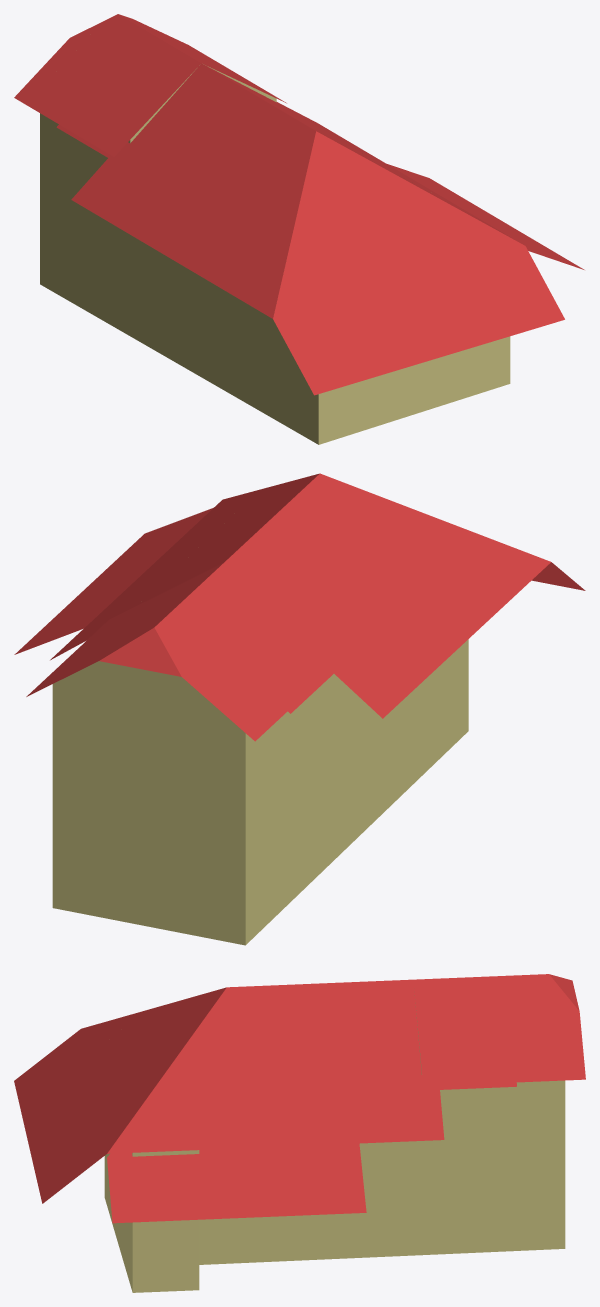
The picture shows the model from 3 angles, top to bottom: view 1: azimuth 30°, elevation 25°; view 2: azimuth 150°, elevation 25°; view 3: azimuth 270°, elevation 25°; orthographic projection. The views are drawn at different scales.
Size of the model in its own units: 20.98 by 30.53 by 14.06.
